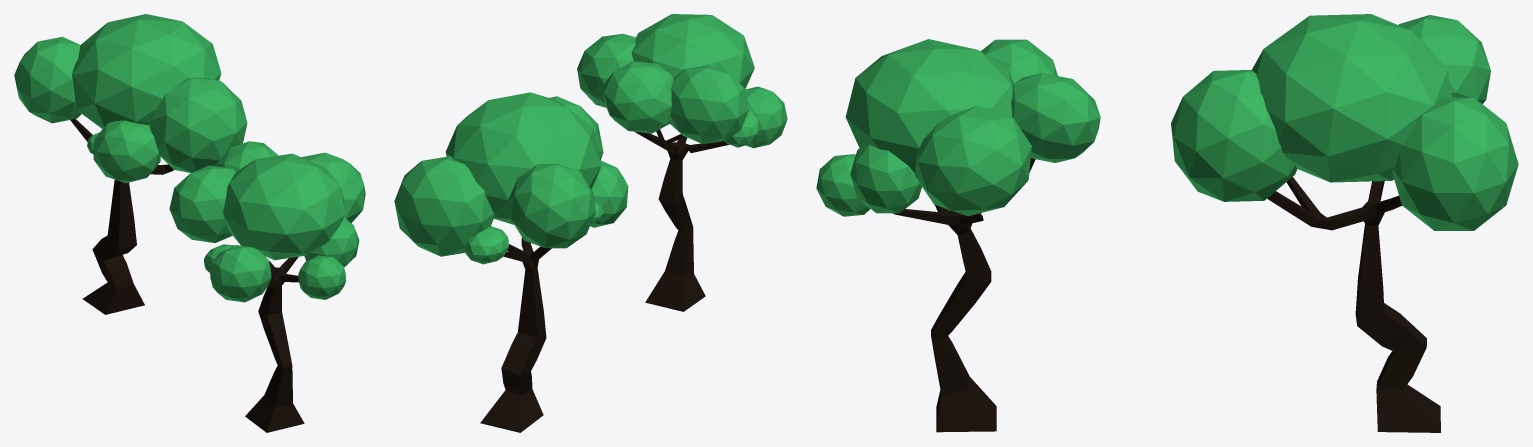
The model's file is TREE.fbx.
The picture shows the model from 3 angles, left to right: view 1: azimuth 30°, elevation 25°; view 2: azimuth 150°, elevation 25°; view 3: azimuth 270°, elevation 25°; orthographic projection. The views are drawn at different scales.
Parts seen in each view (by area): view 1: Cube, Cube.001; view 2: Cube, Cube.001; view 3: Cube, Cube.001.
Boxes of the visible parts, x1,y1,x2,y2 form: Cube: (14, 14, 247, 314); Cube.001: (169, 141, 365, 432); Cube: (394, 92, 628, 432); Cube.001: (577, 14, 787, 311); Cube: (1171, 14, 1518, 432); Cube.001: (816, 39, 1100, 432).
Bounding box in the file's own units: 726 × 1147 × 1809.
